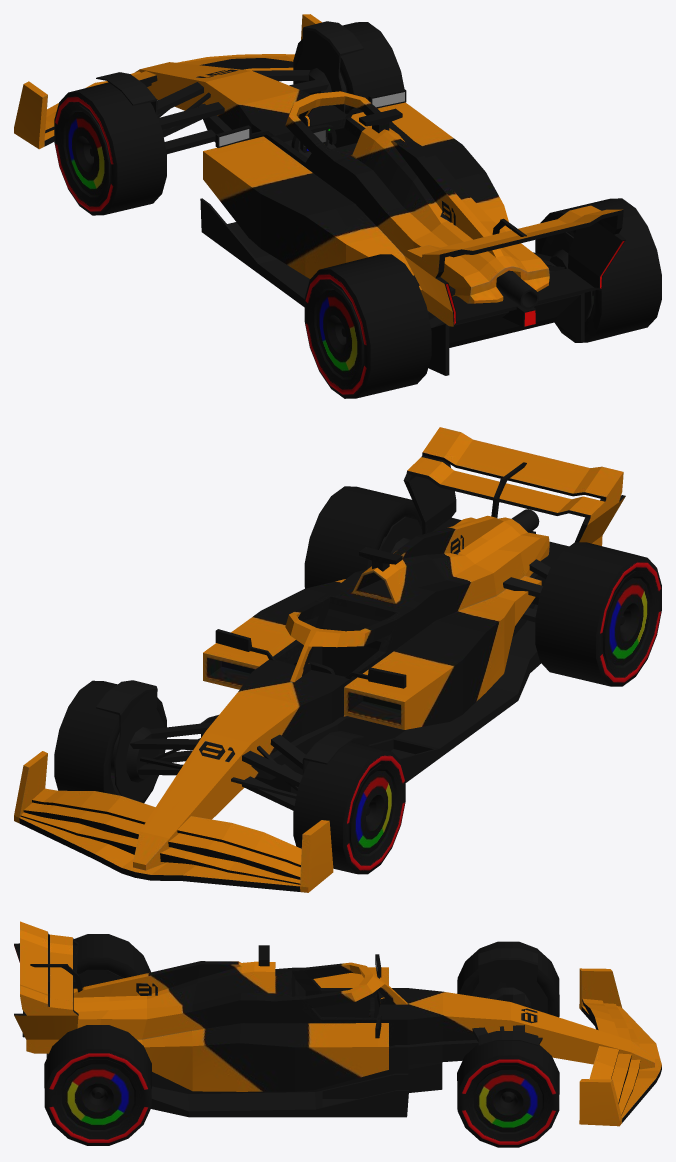
File: car.glb
The picture shows the model from 3 angles, top to bottom: view 1: azimuth 30°, elevation 25°; view 2: azimuth 150°, elevation 25°; view 3: azimuth 270°, elevation 25°; orthographic projection. The views are drawn at different scales.
Parts seen in each view (by area): view 1: Body, Tire_RL, Rear Wing, Tire_FL, Bottom, Tire_RR, Rim_RL, Front Wing Base, Rim_FL, Tire_FR, InsideCover_FR, FrontSuspension_L (+7 smaller); view 2: Body, Front Wing Base, Rear Wing, Tire_RL, Bottom, Tire_FL, Tire_RR, Tire_FR, InsideCover_FR, Rim_RL, Rim_FL, Body Halo (+6 smaller); view 3: Body, Bottom, Front Wing Base, Rear Wing, Tire_RR, Rim_RR, Rim_FR, Tire_FR, InsideCover_FL, Tire_RL, Body Halo, Tire_FL (+4 smaller).
Part boxes in pixels (box(x1,y1,x2,y2)): Body: box(135, 62, 549, 303); Tire_RL: box(304, 254, 431, 398); Rear Wing: box(404, 205, 625, 327); Tire_FL: box(54, 82, 166, 215); Bottom: box(198, 103, 584, 375); Tire_RR: box(535, 198, 661, 342); Rim_RL: box(309, 283, 363, 385); Front Wing Base: box(14, 14, 321, 149); Rim_FL: box(59, 105, 110, 203); Tire_FR: box(293, 22, 404, 114); InsideCover_FR: box(295, 21, 363, 114); FrontSuspension_L: box(157, 82, 224, 154); Body: box(133, 515, 549, 870); Front Wing Base: box(14, 751, 333, 892); Rear Wing: box(403, 427, 625, 567); Tire_RL: box(535, 542, 661, 686); Bottom: box(200, 572, 545, 793); Tire_FL: box(293, 741, 405, 874); Tire_RR: box(304, 486, 422, 588); Tire_FR: box(54, 680, 166, 803); InsideCover_FR: box(96, 680, 164, 801); Rim_RL: box(603, 571, 656, 673); Rim_FL: box(349, 764, 400, 862); Body Halo: box(285, 600, 396, 682); Body: box(73, 954, 654, 1091); Bottom: box(46, 1040, 478, 1117); Front Wing Base: box(579, 968, 661, 1126); Rear Wing: box(14, 921, 82, 1053); Tire_RR: box(44, 1025, 151, 1145); Rim_RR: box(55, 1059, 140, 1136); Rim_FR: box(468, 1065, 548, 1138); Tire_FR: box(457, 1041, 559, 1147); InsideCover_FL: box(470, 948, 547, 1013); Tire_RL: box(74, 934, 150, 977); Body Halo: box(303, 962, 407, 1008); Tire_FL: box(457, 941, 559, 1017).
Size of the model in its own units: 1.49 by 0.8255 by 3.51.
8 materials, 4 textured.
